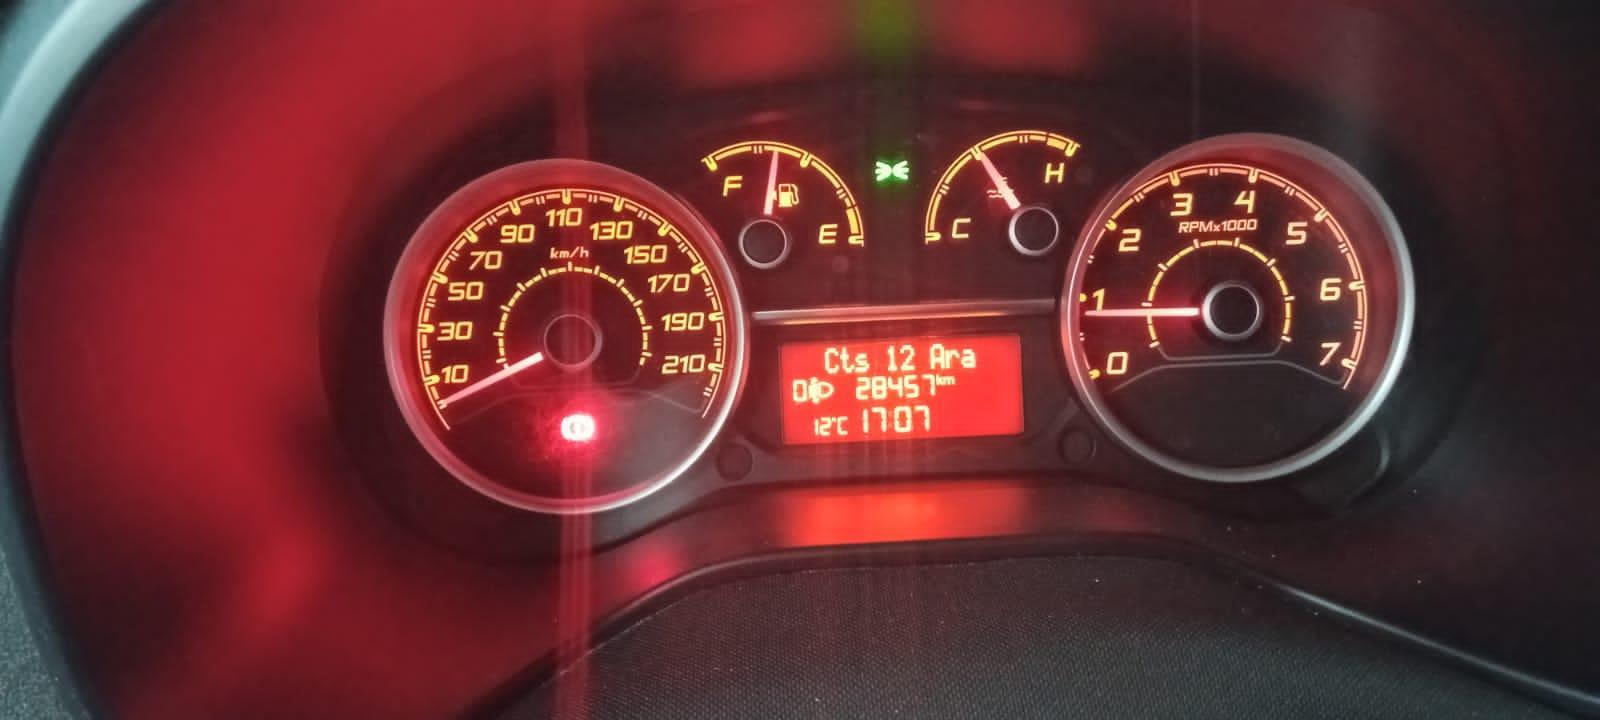0: (892, 405, 911, 434), (791, 377, 808, 403)
1: (885, 343, 898, 372), (861, 406, 869, 433), (812, 417, 819, 435)
2: (899, 343, 916, 372), (854, 375, 870, 401), (820, 416, 831, 438)
4: (888, 376, 903, 398)
5: (903, 373, 919, 399)
7: (913, 403, 932, 432), (870, 405, 887, 433), (920, 372, 936, 396)
8: (870, 375, 888, 400)
X: (927, 341, 945, 370), (822, 346, 839, 376), (839, 345, 854, 374), (960, 347, 976, 369), (945, 348, 960, 369), (855, 352, 870, 373), (837, 413, 849, 436), (887, 409, 893, 430), (943, 375, 955, 385), (936, 373, 942, 385)
odometer: (773, 328, 1029, 450)
